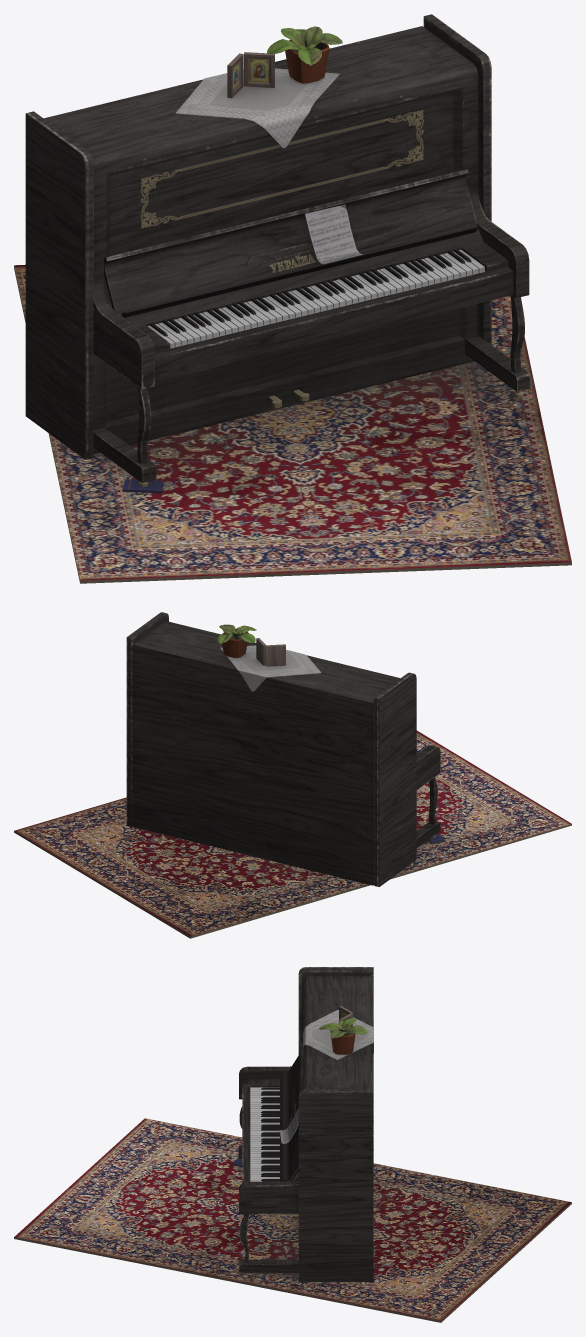
Rendered from piano_ukraine.glb.
3 views of the same model, one above another, from view 1: azimuth 30°, elevation 25°; view 2: azimuth 150°, elevation 25°; view 3: azimuth 270°, elevation 25° (orthographic). The views are drawn at different scales.
Parts seen in each view (by area): view 1: piano_03_low, piano_01_low, piano_02_low, piano_04_low; view 2: piano_01_low, piano_03_low, piano_02_low; view 3: piano_03_low, piano_02_low, piano_01_low, piano_04_low.
Boxes of the visible parts, x1,y1,x2,y2 form: piano_03_low: [14, 26, 571, 583]; piano_01_low: [44, 26, 524, 464]; piano_02_low: [25, 14, 491, 493]; piano_04_low: [109, 225, 523, 486]; piano_01_low: [132, 621, 437, 885]; piano_03_low: [14, 624, 571, 938]; piano_02_low: [126, 612, 445, 886]; piano_03_low: [14, 1018, 571, 1322]; piano_02_low: [231, 967, 373, 1281]; piano_01_low: [239, 976, 373, 1262]; piano_04_low: [242, 1071, 298, 1278].
Bounding box in the file's own units: 4.72 × 2.33 × 5.49.
1 material, 1 textured.
